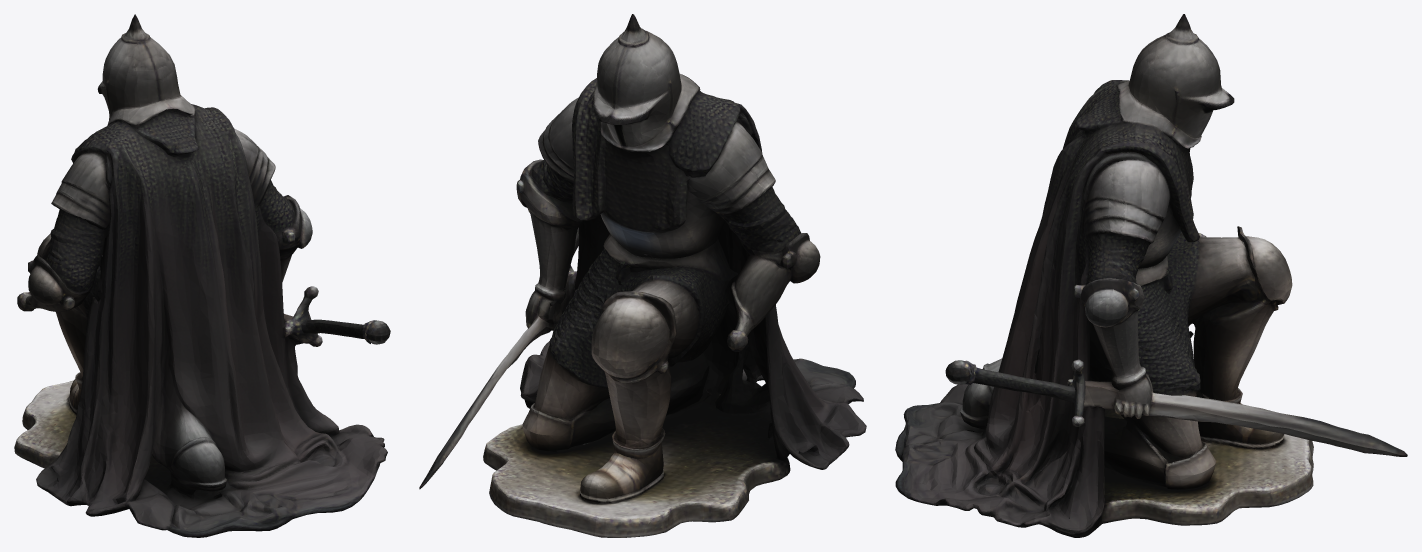
The model's file is ori.glb.
The picture shows the model from 3 angles, left to right: view 1: azimuth 30°, elevation 25°; view 2: azimuth 150°, elevation 25°; view 3: azimuth 270°, elevation 25°; orthographic projection. The views are drawn at different scales.
Parts seen in each view (by area): view 1: world; view 2: world; view 3: world.
Part boxes in pixels (x1=…): world: x1=14, y1=14, x2=390, y2=537; world: x1=419, y1=14, x2=866, y2=537; world: x1=895, y1=14, x2=1407, y2=537.
Bounding box in the file's own units: 0.7153 × 0.9698 × 0.9998.
Materials: 1 (1 with a texture image).
